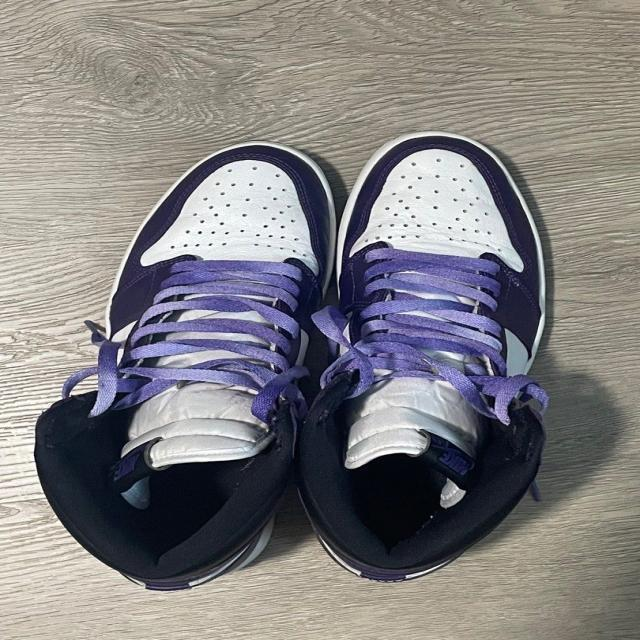nike original jordan 1: (29, 143, 336, 590), (298, 130, 552, 580)
